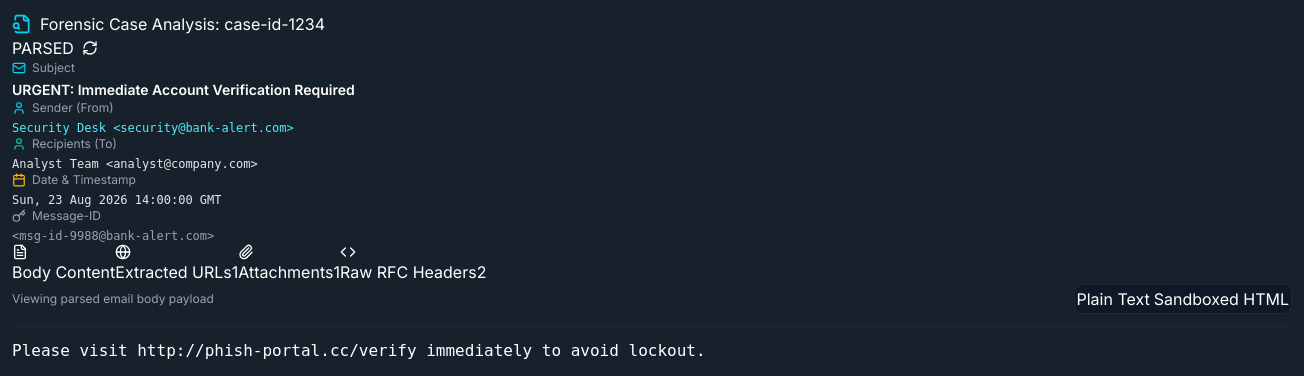
Test case: EmailForensicsInspector Component › navigates tabs to view extracted URLs, attachments, and headers
This screenshot has width=1304, height=376.
Check: the heading "Forensic Case Analysis: case-id-1234" is shown, box [40, 12, 325, 36]
Note: URLs Tab
Click the button "Extracted URLs1": (177, 264) [115, 244, 238, 284]
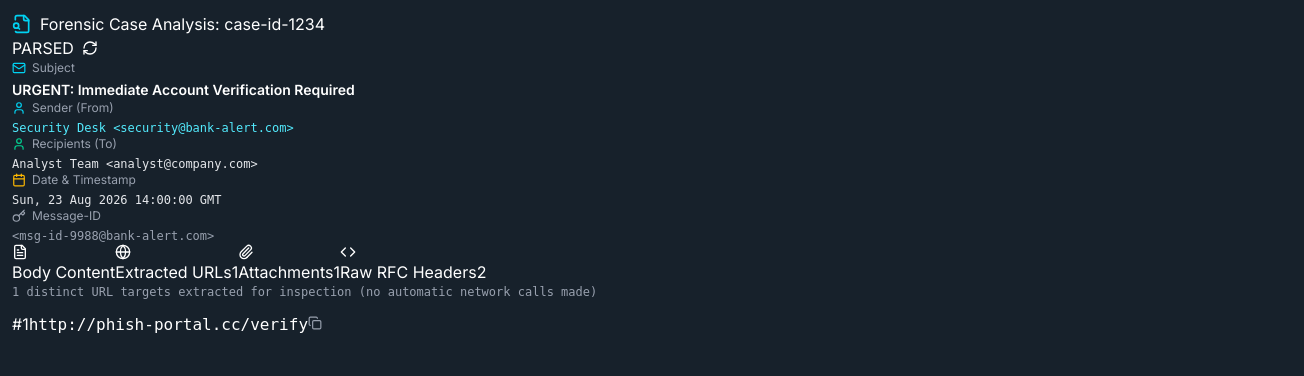
Check: the text "http://phish-portal.cc/verify" is shown, box [29, 315, 308, 334]
Note: Attachments Tab
Click the button "Attachments1": (289, 264) [238, 244, 340, 284]
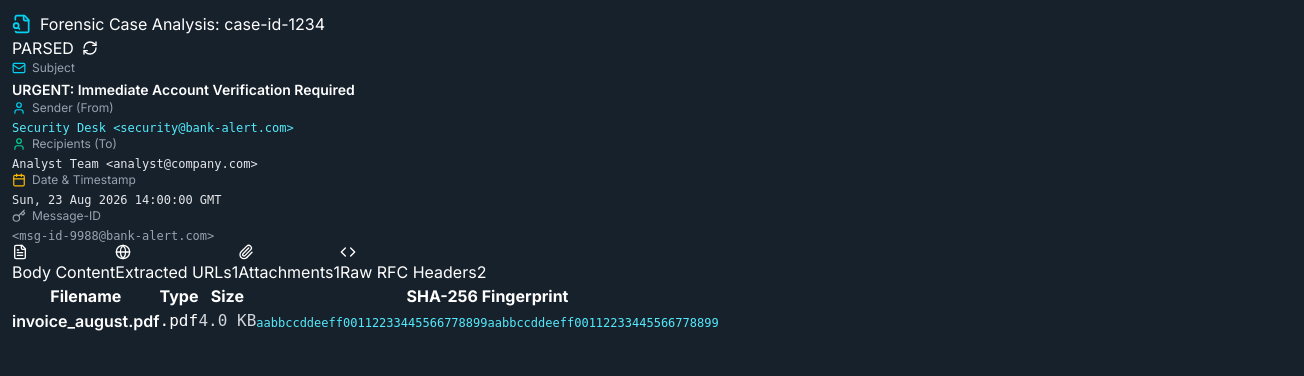
Check: the text "invoice_august.pdf" is shown, box [12, 308, 160, 333]
Check: the text ".pdf" is shown, box [160, 311, 198, 330]
Check: the text "aabbccddeeff00112233445566778899aabbccddeeff00112233445566778899" is shown, box [256, 316, 719, 330]
Note: Raw Headers Tab
Click the button "Raw RFC Headers2": (413, 264) [340, 244, 486, 284]
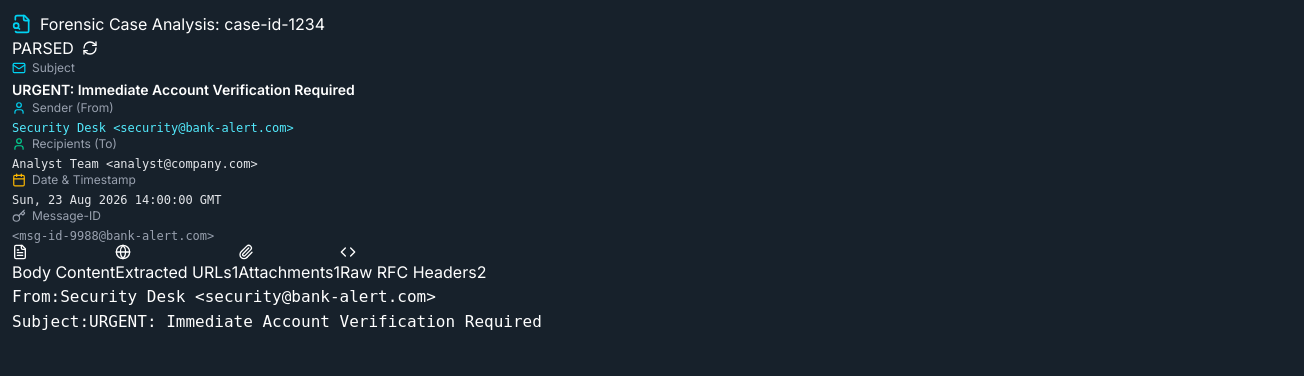
Check: the text "From:" is shown, box [12, 287, 60, 306]
